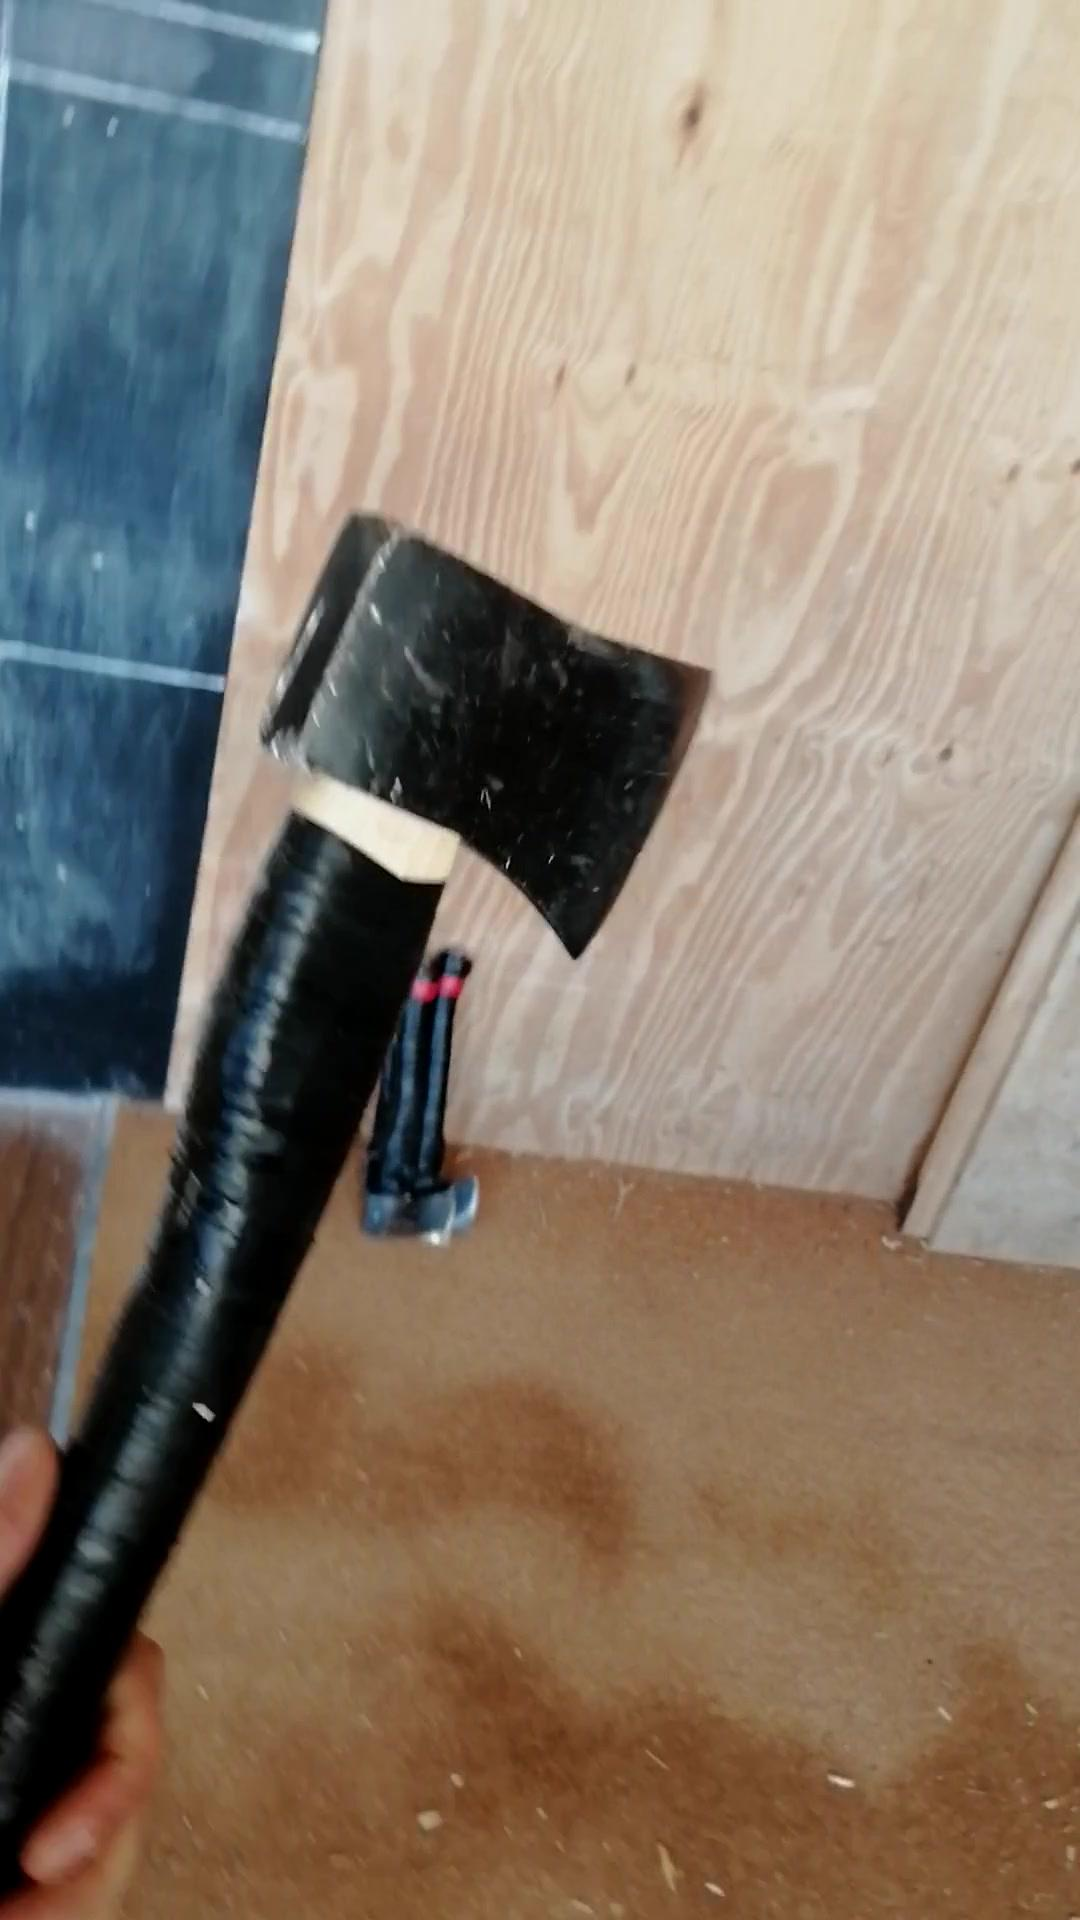Hand Axe: (256, 510, 717, 965), (363, 1185, 458, 1247)
